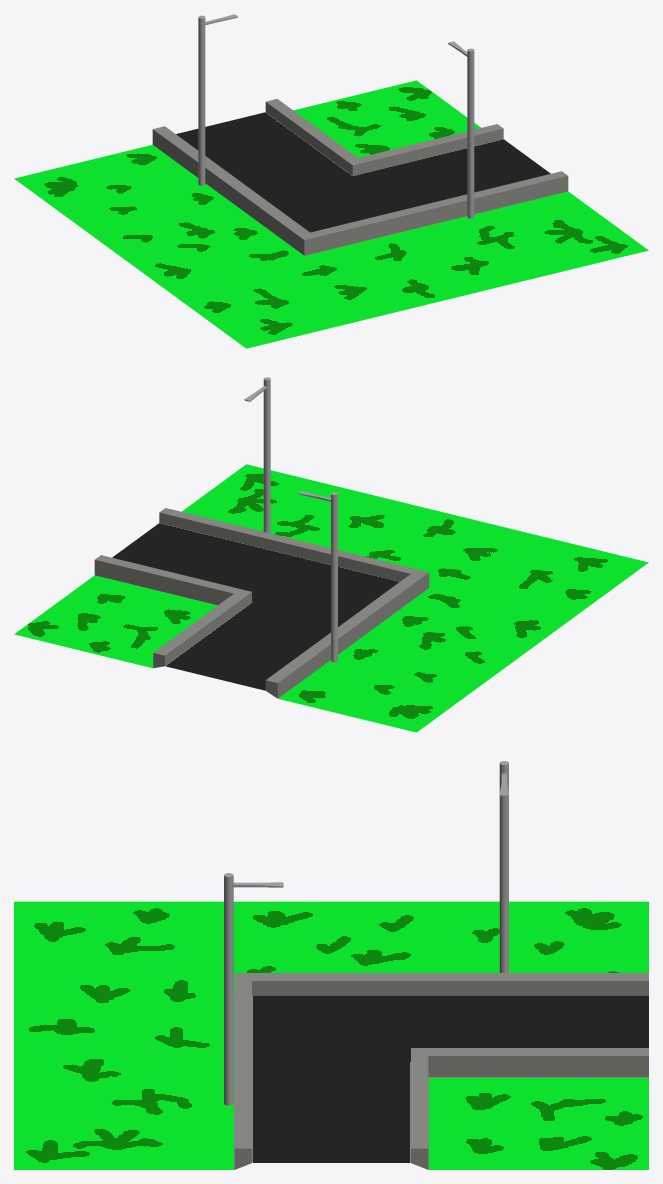
File: EstradaCurva.glb
The picture shows the model from 3 angles, top to bottom: view 1: azimuth 30°, elevation 25°; view 2: azimuth 150°, elevation 25°; view 3: azimuth 270°, elevation 25°; orthographic projection. The views are drawn at different scales.
Visible parts, largest first — view 1: estradaCurvajoin; view 2: estradaCurvajoin; view 3: estradaCurvajoin.
Part boxes in pixels (bbox=[...]): estradaCurvajoin: bbox=[14, 14, 648, 348]; estradaCurvajoin: bbox=[14, 377, 648, 732]; estradaCurvajoin: bbox=[14, 761, 648, 1169].
Size of the model in its own units: 2 by 0.8 by 2.
Materials: 1 (1 with a texture image).
